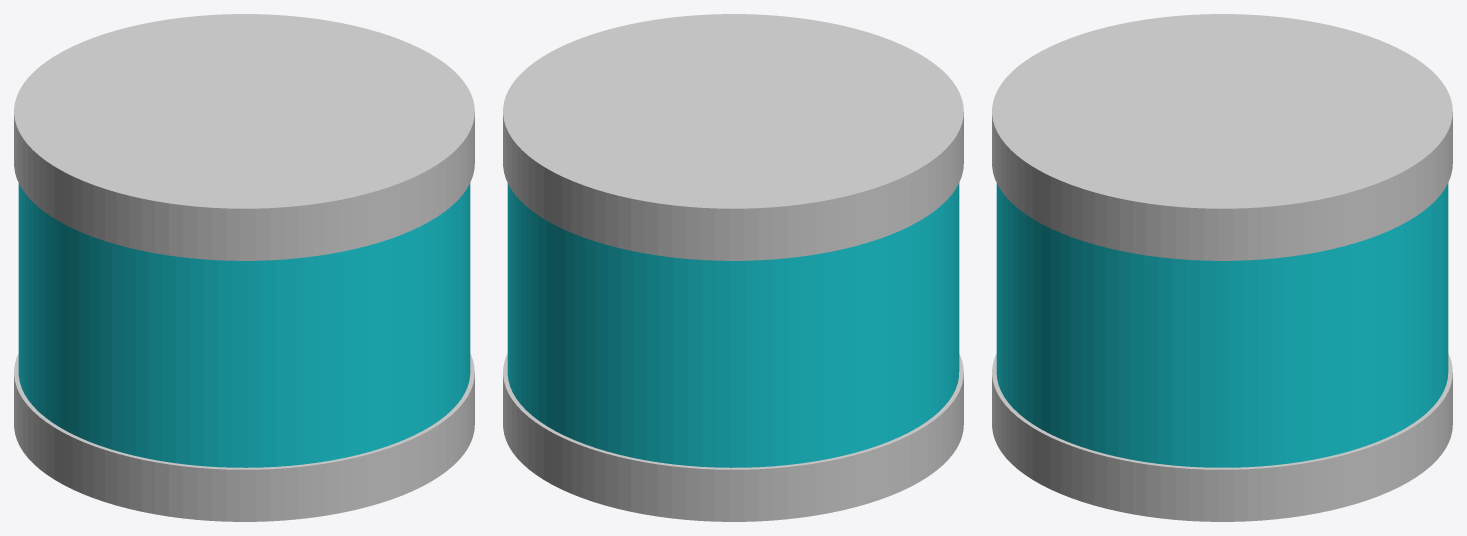
Rendered from lidar.dae.
3 views of the same model, side by side, from view 1: azimuth 30°, elevation 25°; view 2: azimuth 150°, elevation 25°; view 3: azimuth 270°, elevation 25° (orthographic).
Parts seen in each view (by area): view 1: lidar; view 2: lidar; view 3: lidar.
Boxes of the visible parts, <box> form: lidar: <box>14,14,474,521</box>; lidar: <box>503,14,963,521</box>; lidar: <box>992,14,1452,521</box>.
Size of the model in its own units: 0.1 by 0.1 by 0.075.
